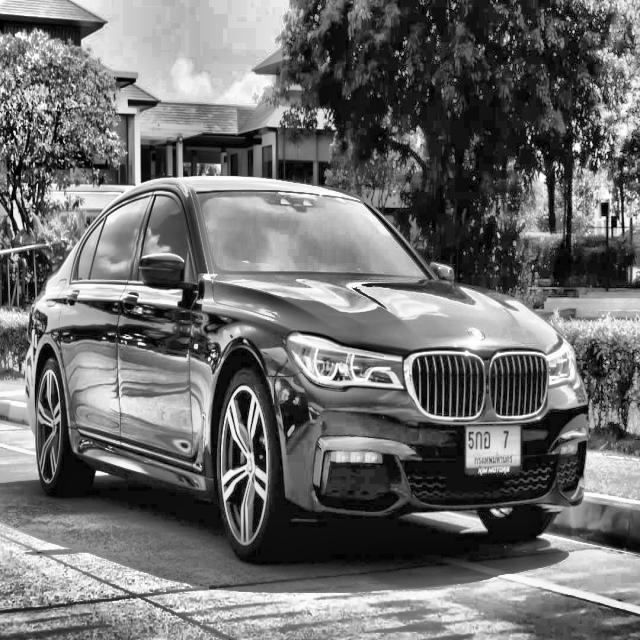license-plate: (464, 422, 523, 474)
